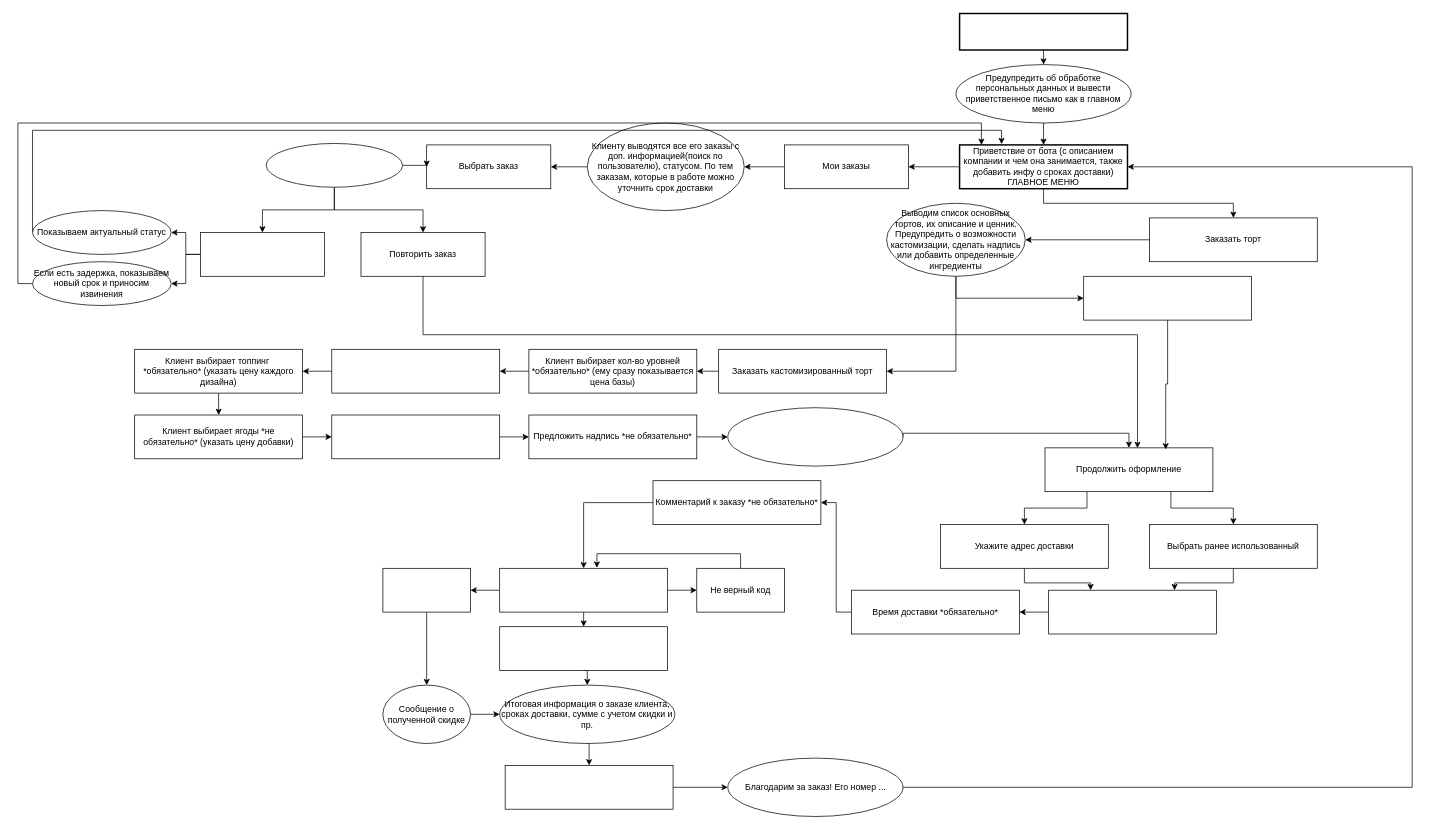
The diagram is 1431 pixels wide and 829 high, and some of its shapes have lost their labels. Here are the shapes that lost their labels. From the top down, the centre of each, then its label:
At point (1043, 31): "Пользователь обращается к боту".
At point (334, 165): "Информация об этом заказе".
At point (262, 254): "Узнать статус".
At point (1167, 298): "выбрать из стандартных вариантов".
At point (415, 371): "Клиент выбирает форму торта *обязательно*".
At point (415, 436): "Клиент выбирает декор *не обяазтельно* ( Указать цену допа)".
At point (815, 436): "Показать информацию о получившимся торте и цену".
At point (426, 590): "Верный код".
At point (583, 590): "Предложить пользователю ввести промокод, если он есть".
At point (1132, 611): "Дата тоставки *обязательно* (если меньше 24ч тогда +20%)".
At point (583, 648): "Без промокода".
At point (588, 787): "Все верно, оформить заказ".
